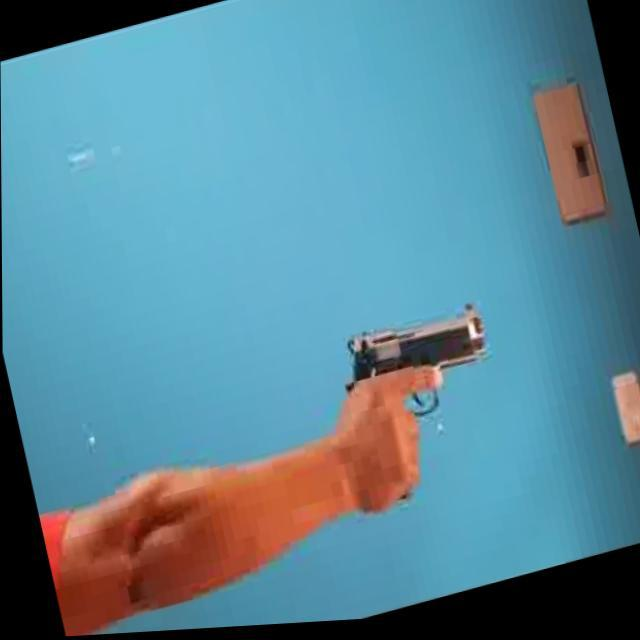weapon: (327, 302, 502, 446)
